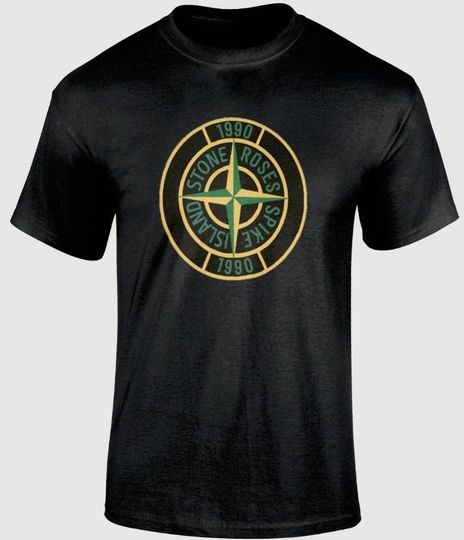design: (156, 113, 310, 282)
